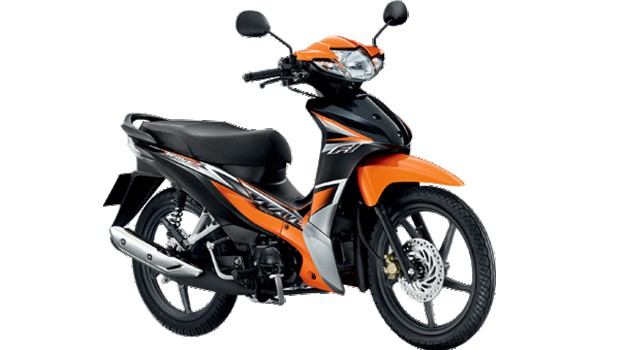motorcycle: (105, 34, 495, 348)
